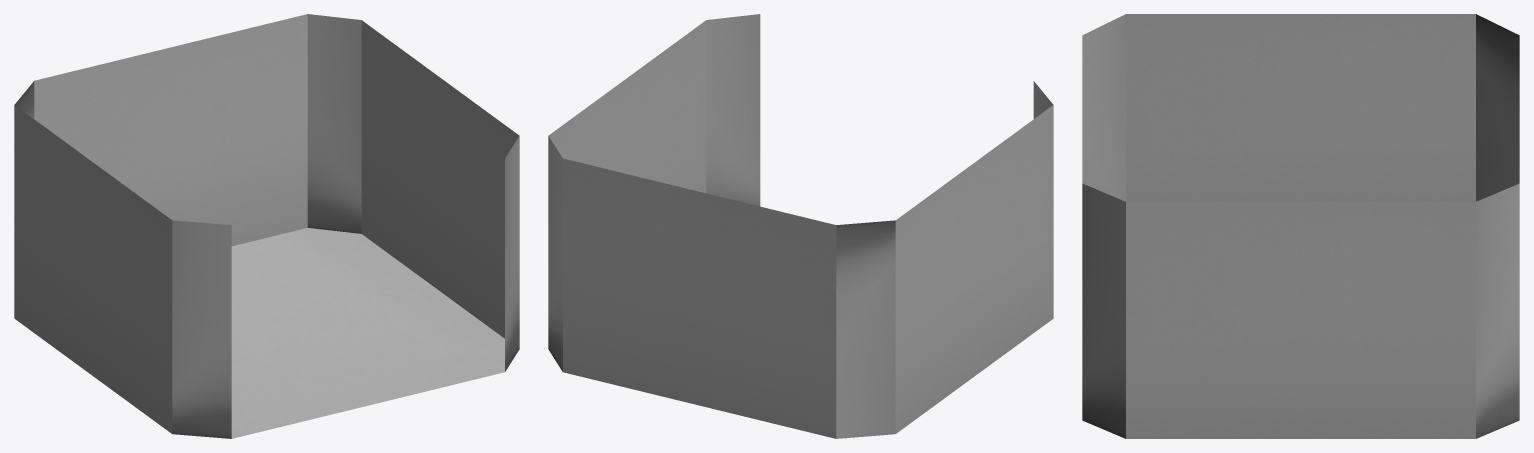
The model's file is elevatorShaftEnd.FBX.
3 views of the same model, side by side, from view 1: azimuth 30°, elevation 25°; view 2: azimuth 150°, elevation 25°; view 3: azimuth 270°, elevation 25° (orthographic). The views are drawn at different scales.
Visible parts, largest first — view 1: elevatorShaftEnd; view 2: elevatorShaftEnd; view 3: elevatorShaftEnd.
Part boxes in pixels (bbox=[...]): elevatorShaftEnd: bbox=[14, 14, 519, 438]; elevatorShaftEnd: bbox=[548, 14, 1053, 438]; elevatorShaftEnd: bbox=[1082, 14, 1519, 438].
Size of the model in its own units: 18.29 by 10.76 by 18.
